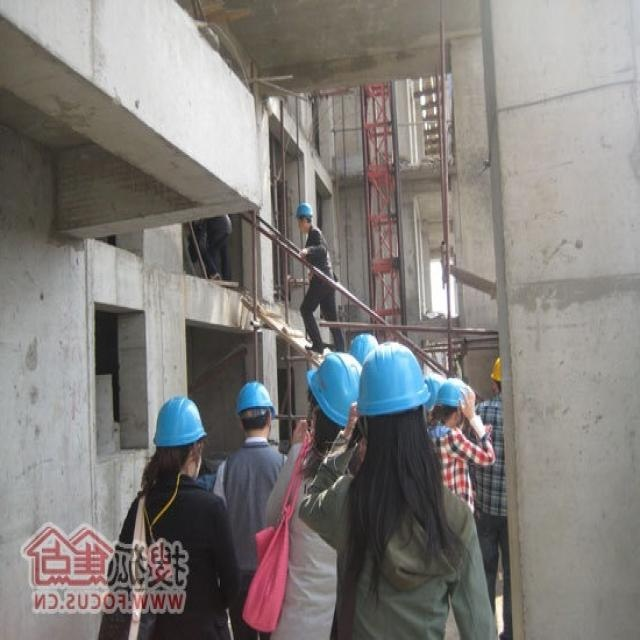Con_Casco: (360, 344, 425, 470)
